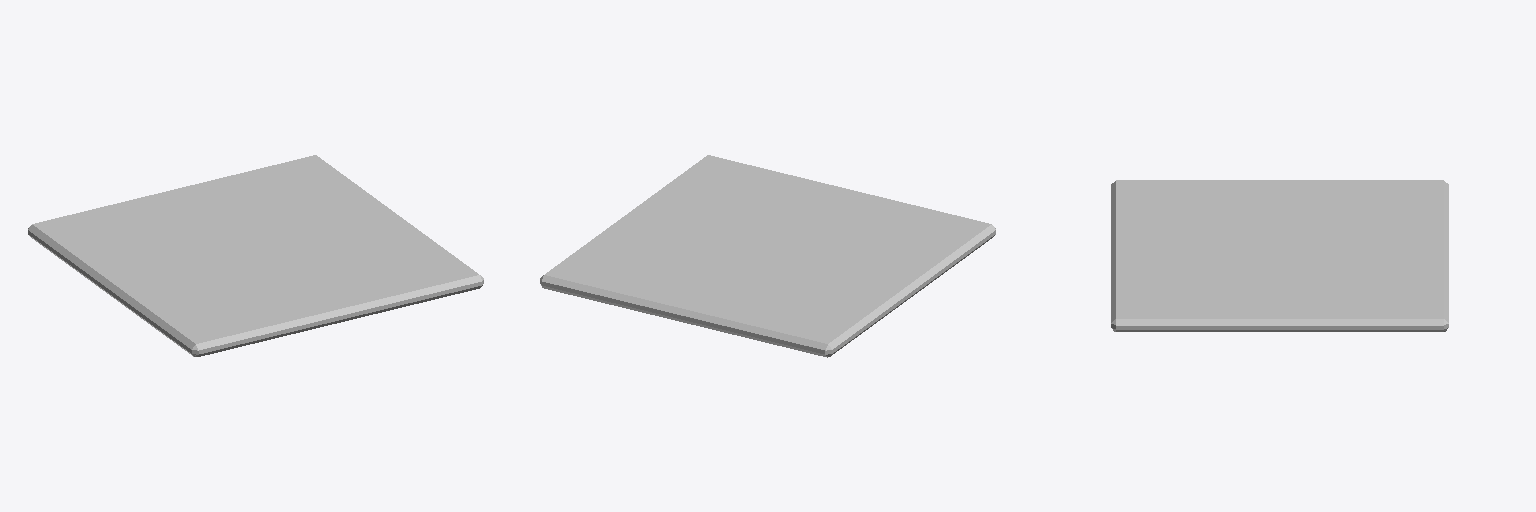
Rendered from cube_floor1.obj.
The picture shows the model from 3 angles: view 1: azimuth 30°, elevation 25°; view 2: azimuth 150°, elevation 25°; view 3: azimuth 270°, elevation 25°; orthographic projection.
Parts seen in each view (by area): view 1: Group; view 2: Group; view 3: Group.
Boxes of the visible parts, x1,y1,x2,y2 form: Group: [28, 155, 483, 356]; Group: [540, 155, 995, 357]; Group: [1111, 180, 1448, 331].
Size of the model in its own units: 2 by 0.0846 by 2.